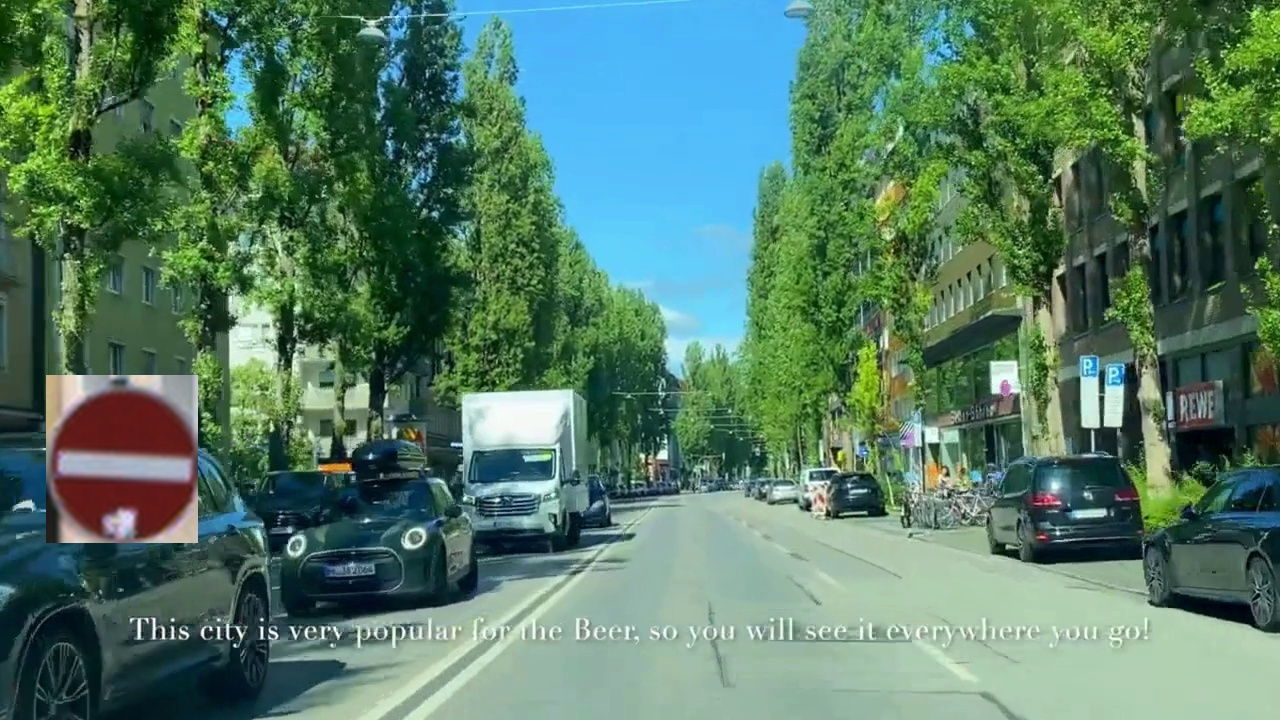No entry: (46, 375, 198, 543)
